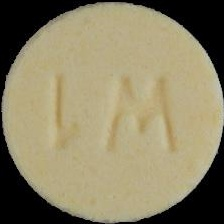0143-1765: (0, 0, 224, 224)
